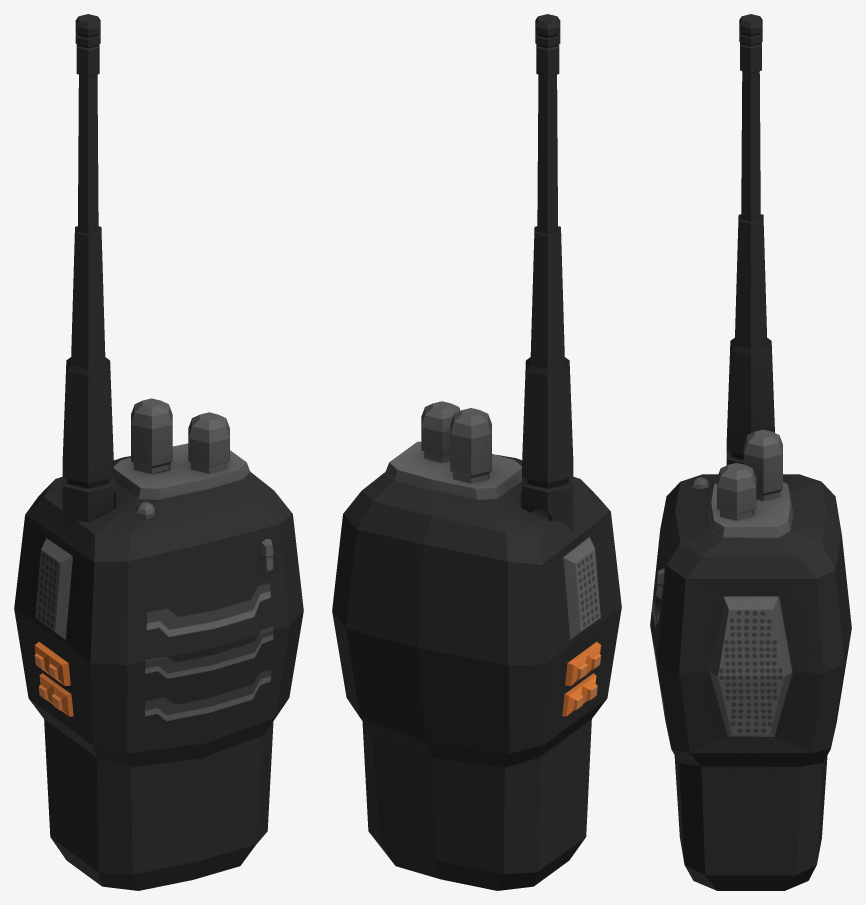
Rendered from WalkieTalkie.gltf.
3 views of the same model, side by side, from view 1: azimuth 30°, elevation 25°; view 2: azimuth 150°, elevation 25°; view 3: azimuth 270°, elevation 25° (orthographic). The views are drawn at different scales.
Visible parts, largest first — view 1: node-0; view 2: node-0; view 3: node-0.
Part boxes in pixels (bbox=[...]): node-0: bbox=[14, 14, 303, 890]; node-0: bbox=[332, 14, 621, 890]; node-0: bbox=[650, 14, 851, 890].
Size of the model in its own units: 3.85 by 13.63 by 3.09.
1 material, 1 textured.
